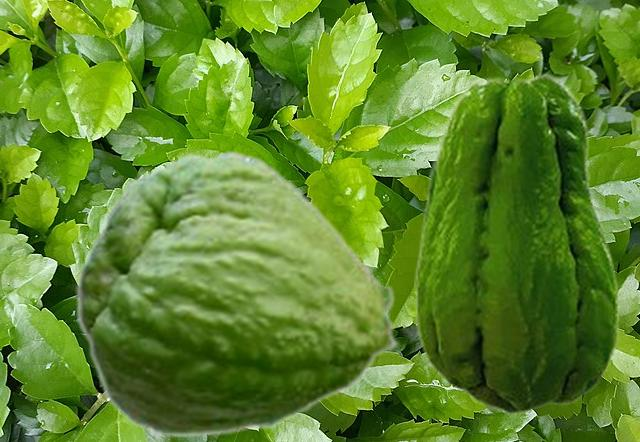sayote: (75, 149, 401, 438), (414, 72, 619, 414)
